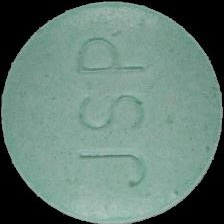0527-1352: (0, 0, 224, 224)
